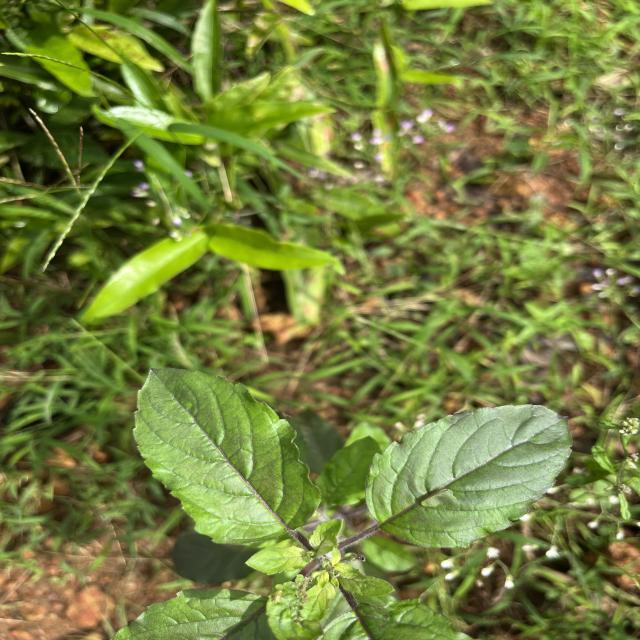Ocimum tenuiflorum: (131, 366, 324, 545), (364, 402, 574, 549)
